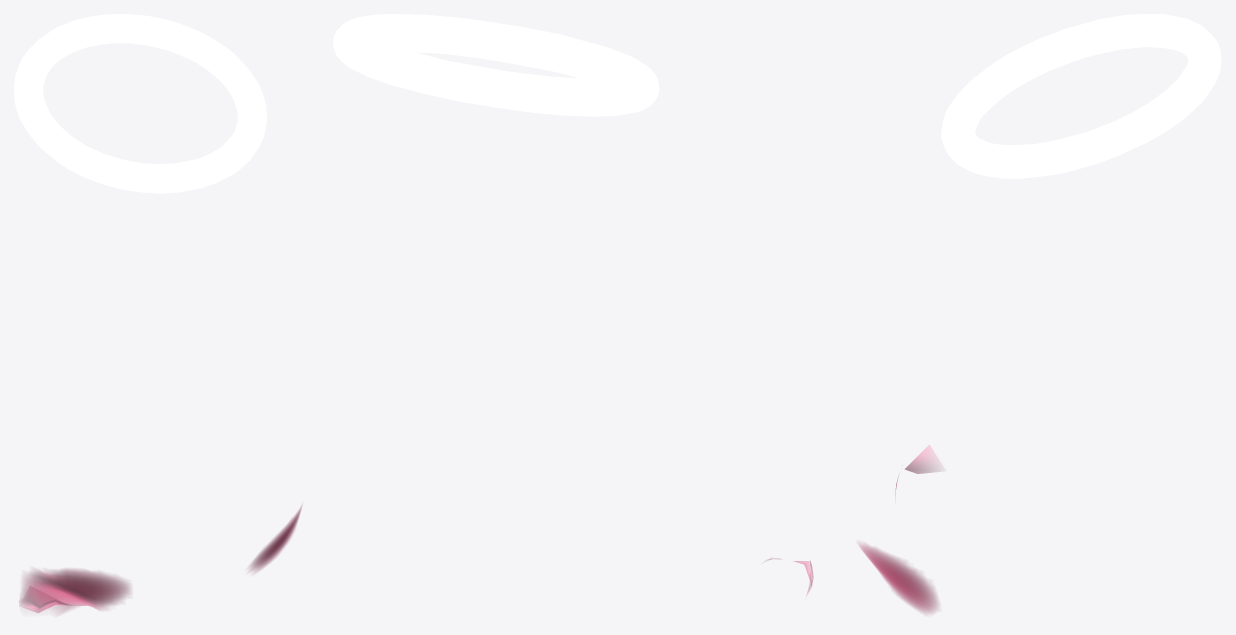
File: face-angel.glb
3 views of the same model, side by side, from view 1: azimuth 30°, elevation 25°; view 2: azimuth 150°, elevation 25°; view 3: azimuth 270°, elevation 25° (orthographic). The views are drawn at different scales.
Visible parts, largest first — view 1: face-angel; view 2: face-angel; view 3: face-angel.
Part boxes in pixels (x1,y1,x2,y2): face-angel: (14,14,301,613); face-angel: (333,14,813,596); face-angel: (858,14,1221,614).
Size of the model in its own units: 0.6979 by 1.08 by 0.6622.
